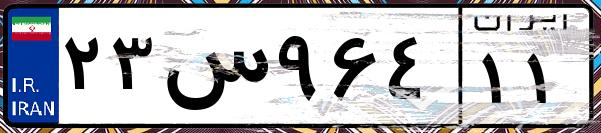1: (475, 38, 525, 113), (525, 38, 570, 115)
2: (57, 26, 110, 100)
3: (110, 28, 158, 98)
4: (385, 28, 445, 110)
6: (330, 28, 385, 110)
9: (270, 28, 330, 110)
س: (158, 20, 270, 120)
